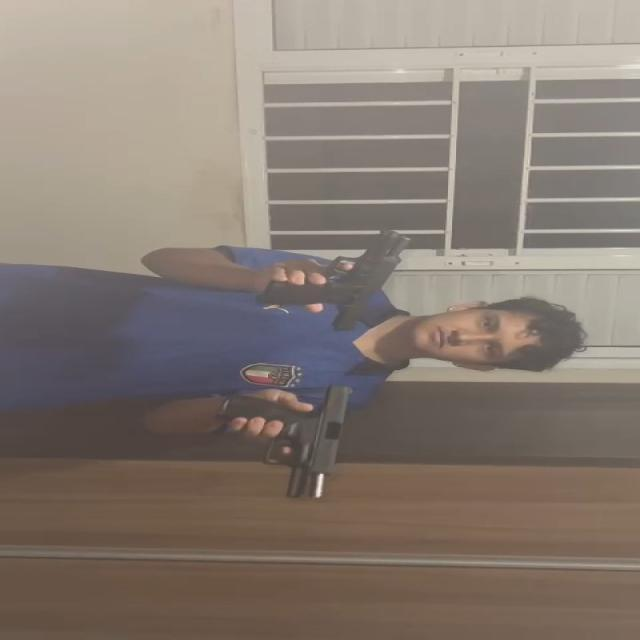gun: (216, 382, 356, 502), (262, 232, 412, 318)
